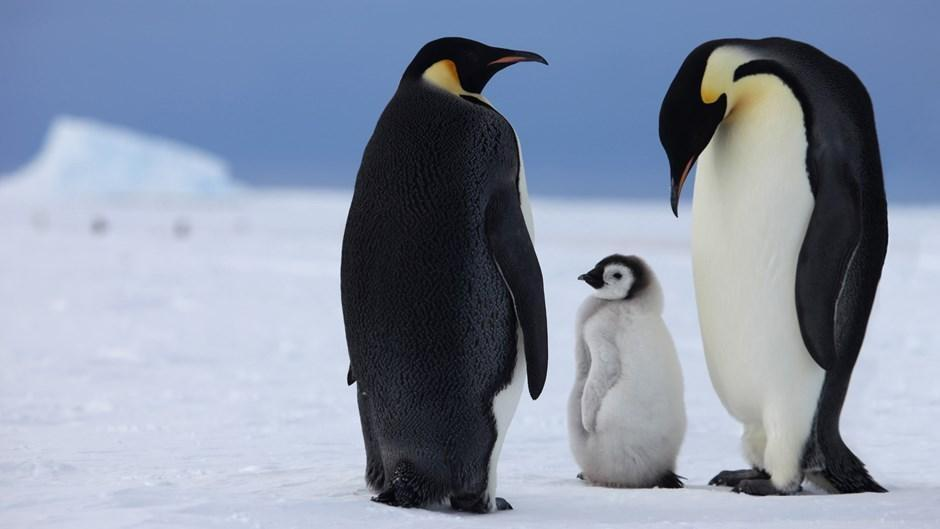Penguin: (659, 36, 889, 496), (341, 37, 549, 515), (567, 255, 686, 487)
